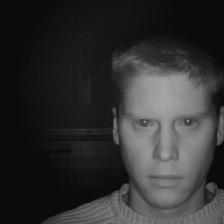normal: (101, 42, 224, 208)
